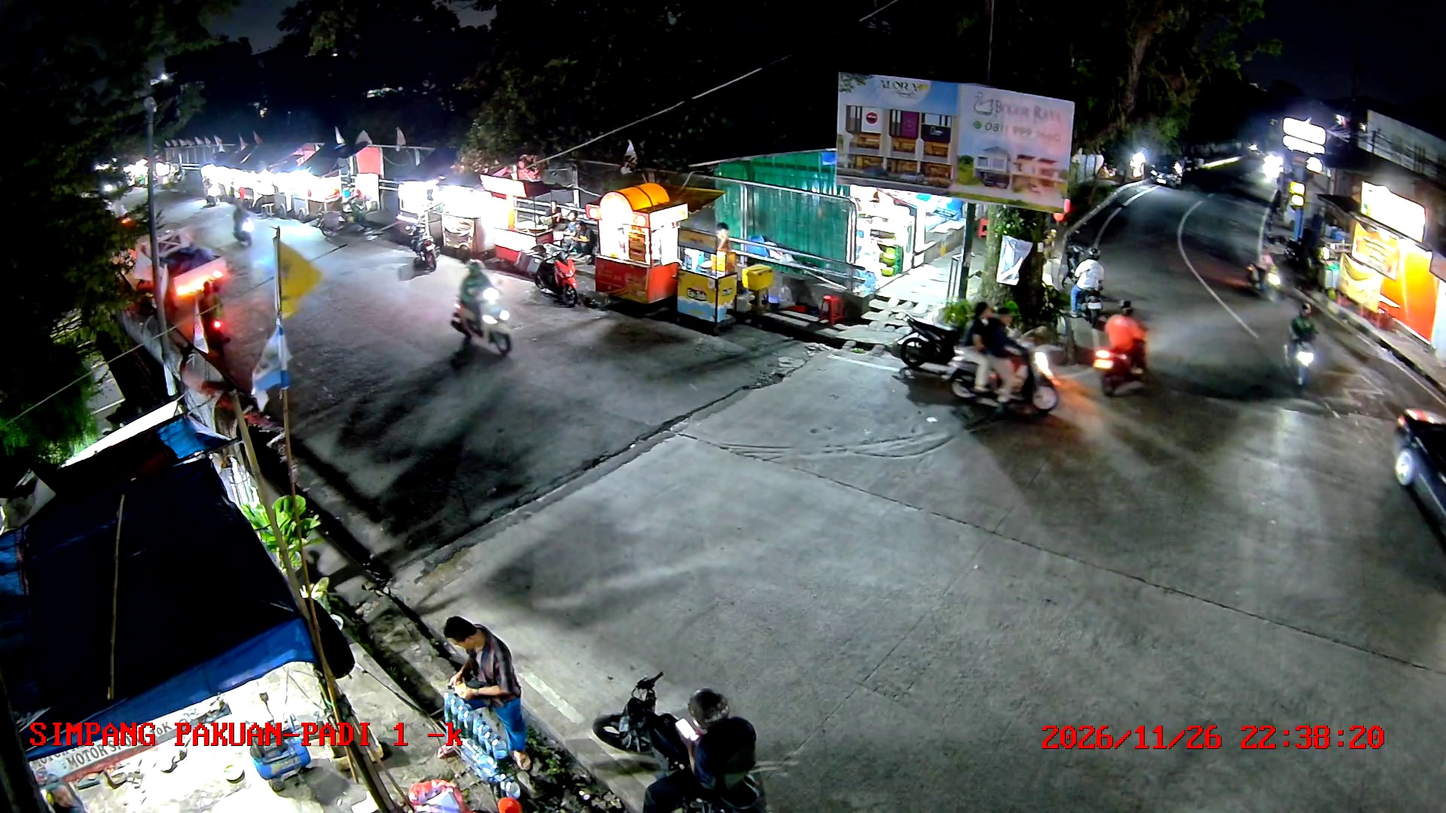Gerobak: (594, 179, 690, 307)
